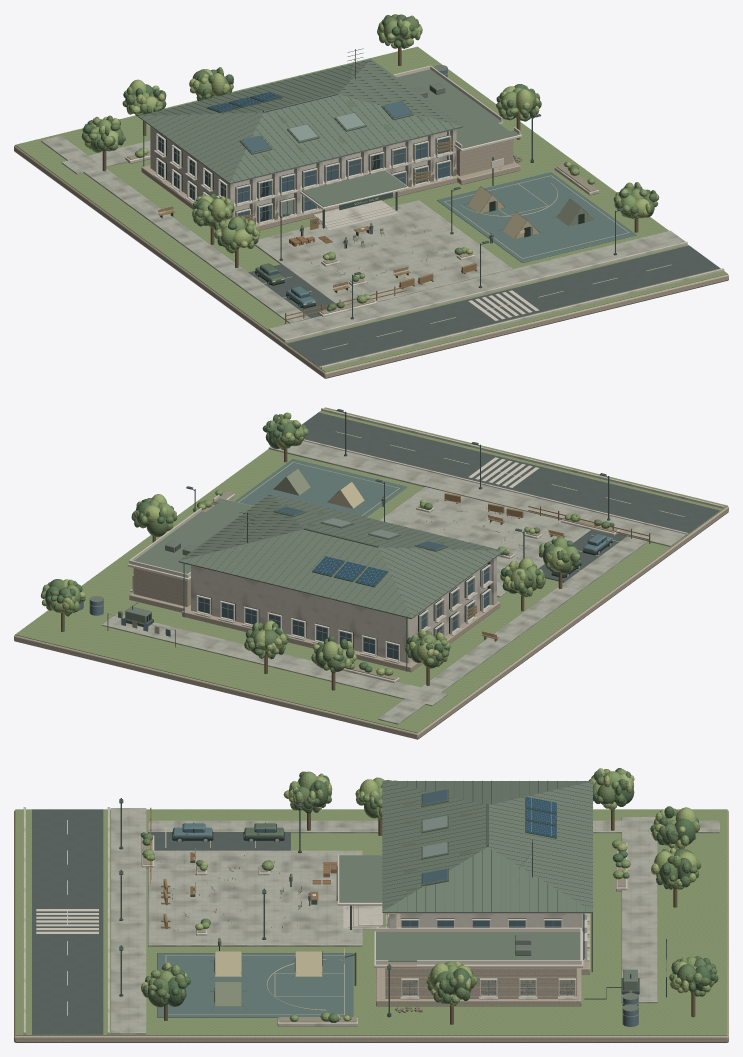
File: shelter-isolated.glb
The picture shows the model from 3 angles, top to bottom: view 1: azimuth 30°, elevation 25°; view 2: azimuth 150°, elevation 25°; view 3: azimuth 270°, elevation 25°; orthographic projection. The views are drawn at different scales.
Parts seen in each view (by area): view 1: 材质批次_weathered_shelter_plaza_paving, 材质批次_weathered_shelter_sage_metal_roof, 材质批次_grass, 材质批次_asphalt, 材质批次_weathered_shelter_limestone, 材质批次_shelter_court_surface, 材质批次_stone_courses, 材质批次_weathered_shelter_warm_cream_trim, 材质批次_weathered_shelter_standing_seam, 材质批次_leaf_0, 材质批次_leaf_2, 材质批次_cityhall_glass_dark (+13 smaller); view 2: 材质批次_grass, 材质批次_weathered_shelter_plaza_paving, 材质批次_weathered_shelter_sage_metal_roof, 材质批次_asphalt, 材质批次_weathered_shelter_limestone, 材质批次_stone_courses, 材质批次_weathered_shelter_standing_seam, 材质批次_weathered_shelter_warm_cream_trim, 材质批次_shelter_court_surface, 材质批次_leaf_2, 材质批次_leaf_0, 材质批次_leaf_1 (+12 smaller); view 3: 材质批次_grass, 材质批次_weathered_shelter_plaza_paving, 材质批次_weathered_shelter_sage_metal_roof, 材质批次_asphalt, 材质批次_stone_courses, 材质批次_shelter_court_surface, 材质批次_weathered_shelter_standing_seam, 材质批次_weathered_shelter_warm_cream_trim, 材质批次_weathered_shelter_limestone, 材质批次_shelter_terracotta_brick, 材质批次_leaf_1, 材质批次_leaf_3 (+16 smaller).
Boxes of the visible parts, x1,y1,x2,y2 form: 材质批次_weathered_shelter_plaza_paving: (41,135,685,340); 材质批次_weathered_shelter_sage_metal_roof: (138,59,519,207); 材质批次_grass: (15,46,727,372); 材质批次_asphalt: (248,245,720,366); 材质批次_weathered_shelter_limestone: (125,126,724,369); 材质批次_shelter_court_surface: (437,172,636,262); 材质批次_stone_courses: (14,143,728,378); 材质批次_weathered_shelter_warm_cream_trim: (156,65,623,320); 材质批次_weathered_shelter_standing_seam: (141,61,460,181); 材质批次_leaf_0: (88,15,647,303); 材质批次_leaf_2: (82,20,658,300); 材质批次_cityhall_glass_dark: (158,101,449,298); 材质批次_grass: (15,407,727,733); 材质批次_weathered_shelter_plaza_paving: (102,441,685,724); 材质批次_weathered_shelter_sage_metal_roof: (134,494,503,618); 材质批次_asphalt: (302,412,720,582); 材质批次_weathered_shelter_limestone: (130,408,724,683); 材质批次_stone_courses: (14,506,728,739); 材质批次_weathered_shelter_standing_seam: (182,495,500,671); 材质批次_weathered_shelter_warm_cream_trim: (127,411,612,661); 材质批次_shelter_court_surface: (235,459,406,517); 材质批次_leaf_2: (49,417,579,675); 材质批次_leaf_0: (42,412,580,675); 材质批次_leaf_1: (41,414,609,673); 材质批次_grass: (15,809,727,1035); 材质批次_weathered_shelter_plaza_paving: (110,808,719,1034); 材质批次_weathered_shelter_sage_metal_roof: (339,781,592,961); 材质批次_asphalt: (32,809,290,1034); 材质批次_stone_courses: (14,810,728,1042); 材质批次_shelter_court_surface: (157,953,353,1017); 材质批次_weathered_shelter_standing_seam: (382,780,592,972); 材质批次_weathered_shelter_warm_cream_trim: (36,807,590,997); 材质批次_weathered_shelter_limestone: (23,807,627,1034); 材质批次_shelter_terracotta_brick: (338,959,576,998); 材质批次_leaf_1: (142,770,717,1022); 材质批次_leaf_3: (140,768,718,1006).
Size of the model in its own units: 60 by 14.53 by 80.
Materials: 46 (6 with a texture image).
